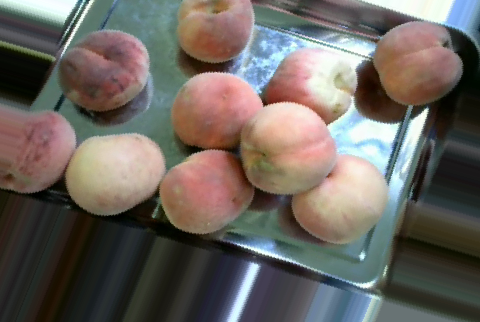Peach: (288, 154, 389, 245), (242, 99, 336, 196), (158, 148, 255, 234), (69, 133, 166, 215), (369, 22, 464, 105), (269, 45, 356, 129), (59, 30, 150, 110), (173, 70, 262, 150), (175, 0, 254, 61)
